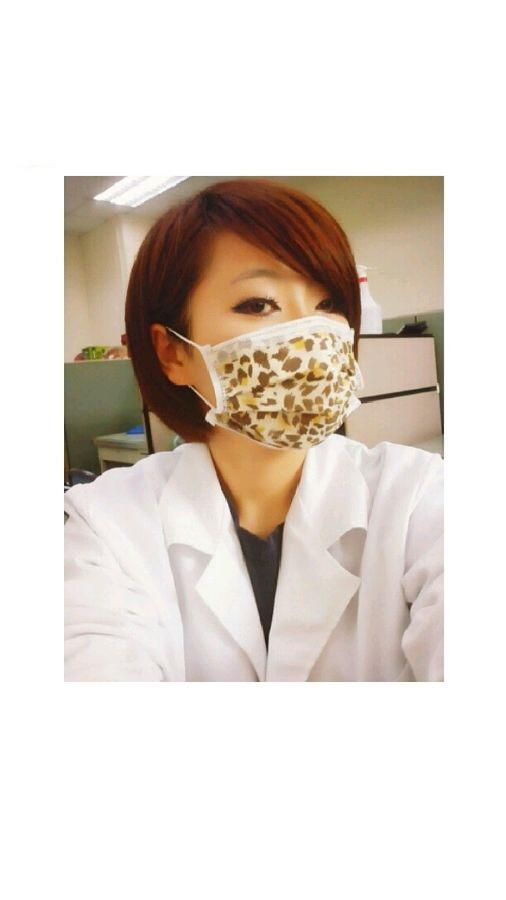OK: (176, 253, 370, 443)
